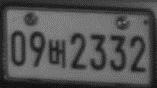0: (10, 29, 26, 66)
2: (70, 32, 88, 70), (129, 35, 147, 73)
3: (108, 33, 127, 72), (89, 32, 107, 70)
9: (28, 30, 46, 68)
버: (47, 37, 67, 69)
